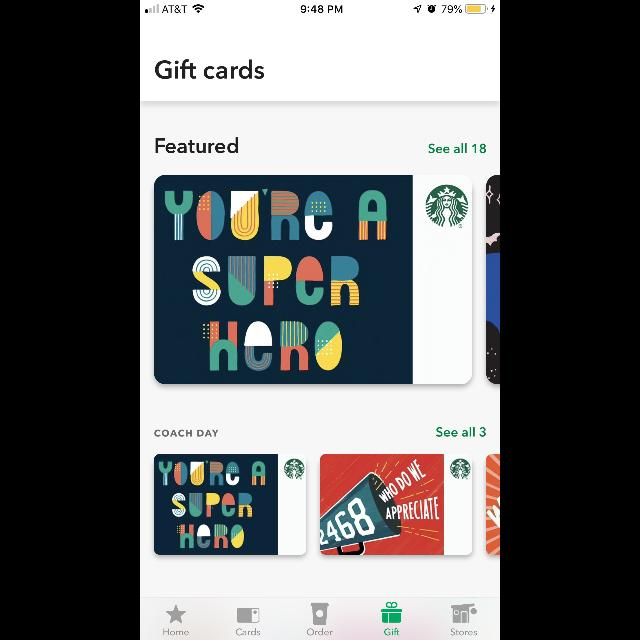icon: (166, 604, 186, 624), (382, 602, 402, 622), (237, 608, 260, 622)
image: (154, 175, 472, 385), (154, 454, 306, 556), (320, 454, 472, 554), (486, 175, 499, 385), (486, 454, 500, 554), (451, 604, 477, 622), (311, 603, 329, 625)
text: (156, 59, 264, 79), (156, 137, 238, 153), (428, 143, 486, 153), (436, 427, 486, 437), (154, 429, 218, 436), (451, 628, 477, 636), (307, 628, 333, 636), (236, 628, 260, 636), (164, 628, 188, 636), (384, 628, 400, 636)
uppertaskbar: (140, 0, 500, 14)
